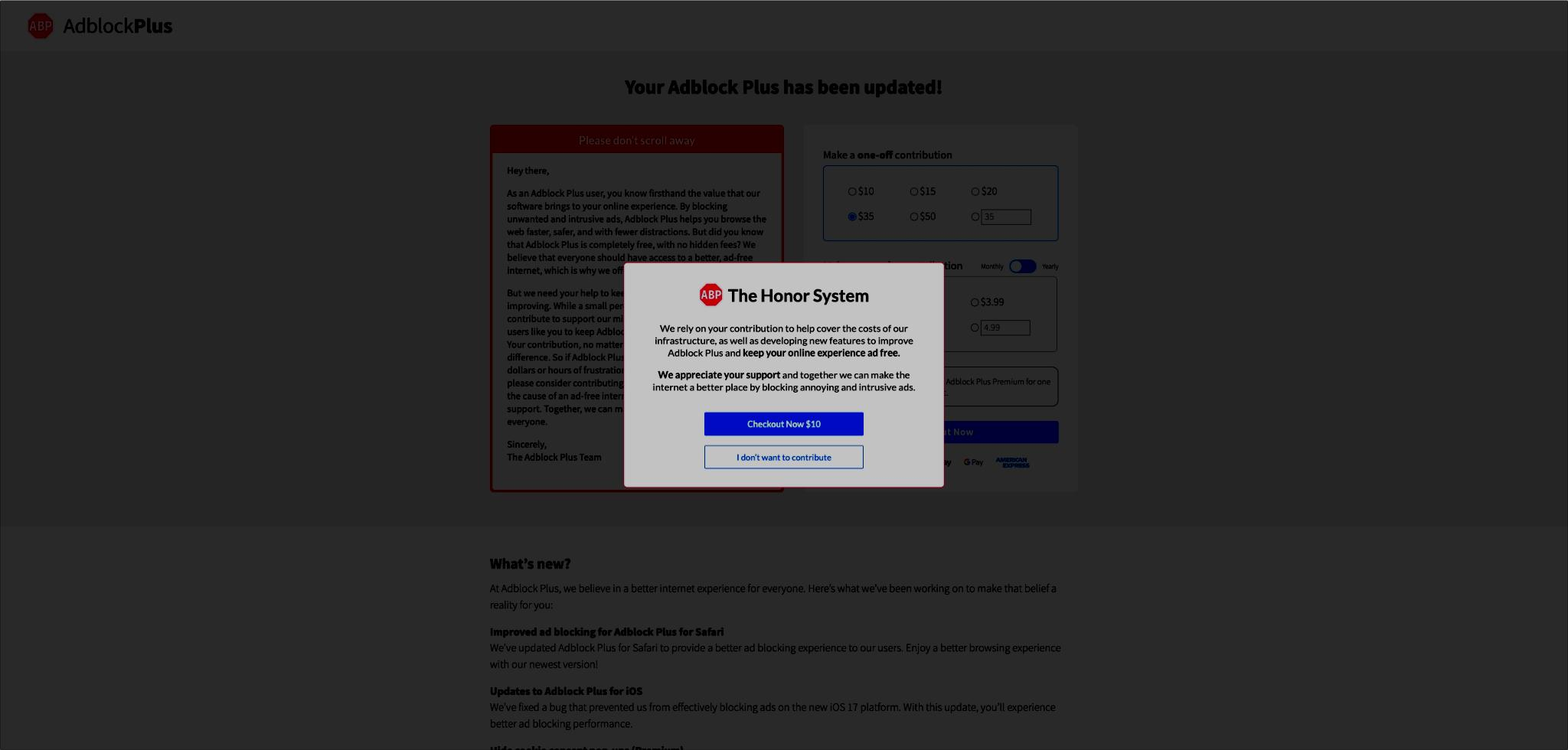webelement: (506, 286, 766, 427), (506, 186, 766, 276), (489, 579, 1077, 612), (489, 639, 1077, 672), (489, 698, 1077, 731), (506, 437, 766, 463), (844, 376, 1051, 397), (506, 164, 766, 176), (919, 316, 942, 336), (858, 316, 880, 336), (919, 291, 942, 310), (980, 291, 1003, 310), (858, 291, 880, 310), (858, 205, 873, 225), (920, 205, 935, 225), (858, 180, 873, 199), (920, 180, 935, 199), (981, 180, 996, 199), (874, 376, 882, 386), (871, 376, 875, 386)
